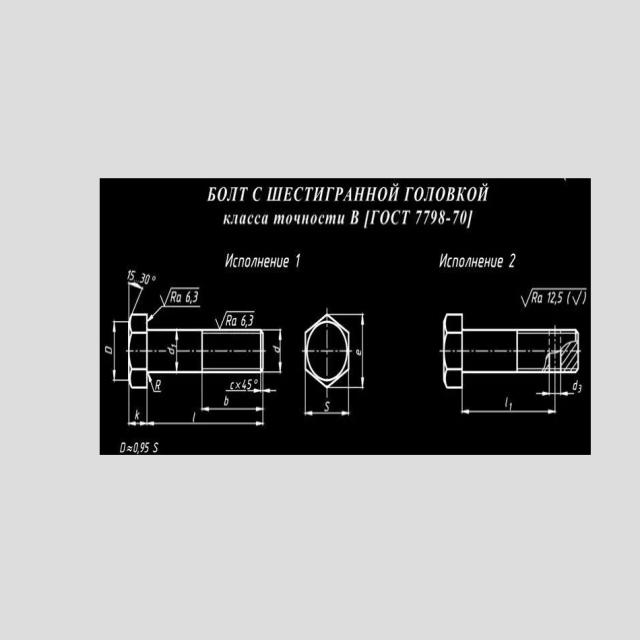marking_line: (148, 421, 263, 427), (462, 410, 556, 415), (360, 315, 365, 386), (202, 407, 262, 412), (307, 410, 349, 417), (113, 323, 117, 378), (174, 331, 179, 371), (278, 330, 282, 371), (537, 392, 574, 396), (130, 420, 145, 426)
numeric: (548, 291, 564, 306), (186, 290, 201, 304), (242, 314, 256, 329), (125, 269, 135, 282), (139, 271, 149, 284), (243, 377, 251, 390)
special_symbol: (147, 285, 205, 328), (215, 307, 238, 328), (516, 287, 534, 310), (148, 373, 162, 394), (569, 289, 582, 311), (227, 389, 260, 394), (263, 388, 278, 392), (151, 274, 157, 283)
